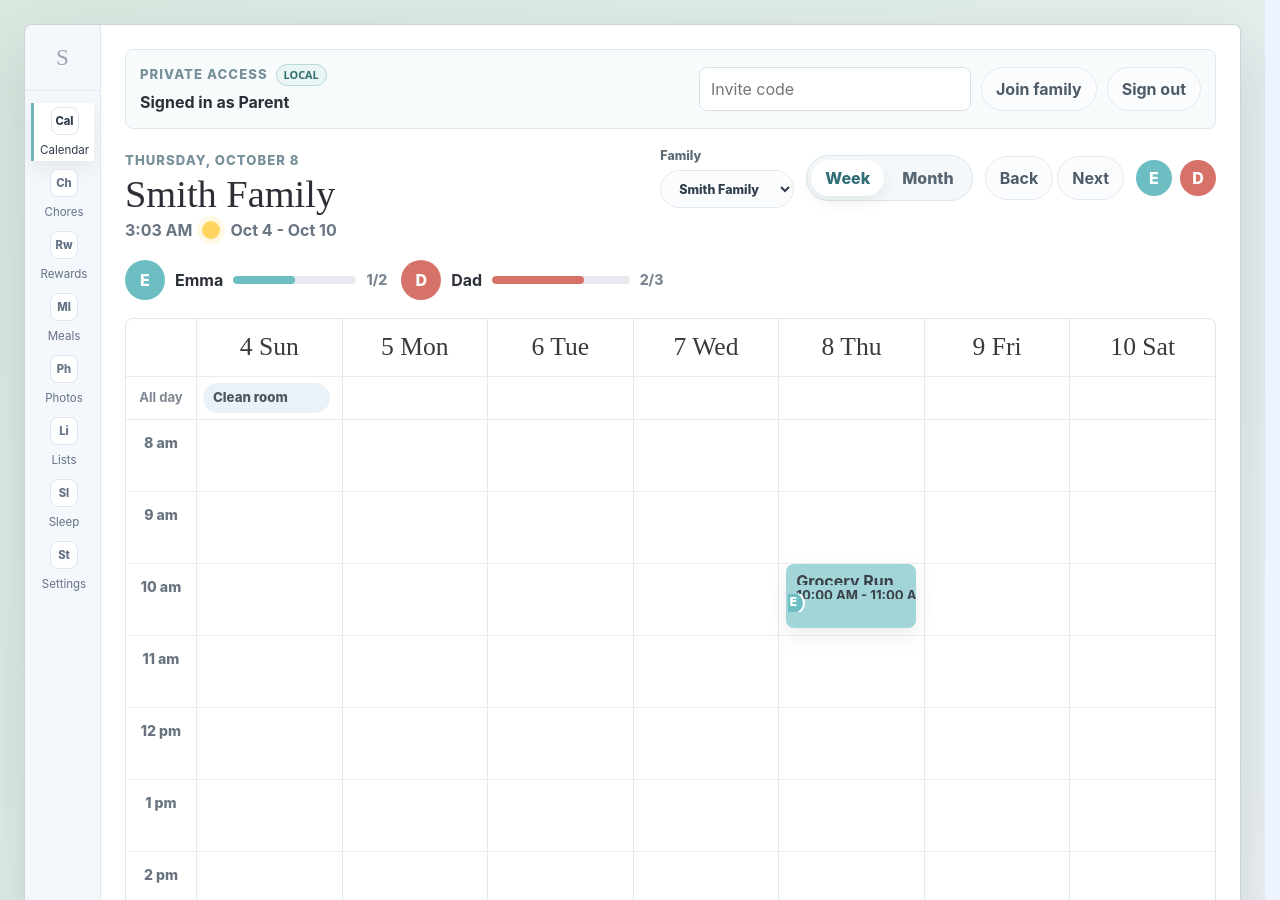
App › reloads and revokes active invitation codes for owners
This screenshot has width=1280, height=900.
Check: the heading "Smith Family" is shown, box x1=125 y1=175 x2=337 y2=214
What coordinates should you click on to do the following:
click the button "St Settings"
I would click on:
 (62, 566)
Its box is x1=31 y1=537 x2=94 y2=595.
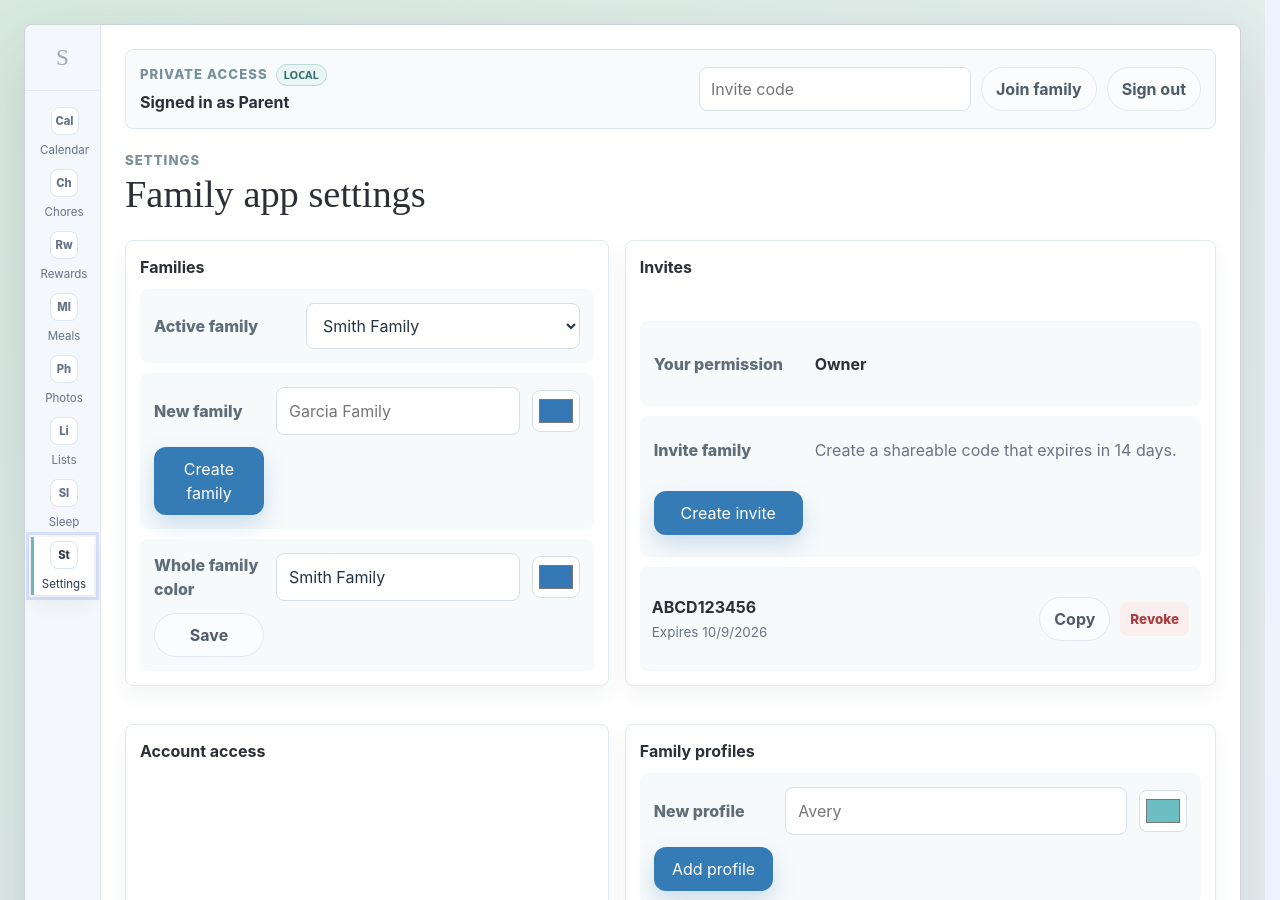
Check: the text "ABCD123456" is shown, box x1=652 y1=597 x2=756 y2=617
What coordinates should you click on to do the following:
click the button "Revoke"
I would click on:
 (1155, 619)
Its box is x1=1120 y1=602 x2=1189 y2=636.
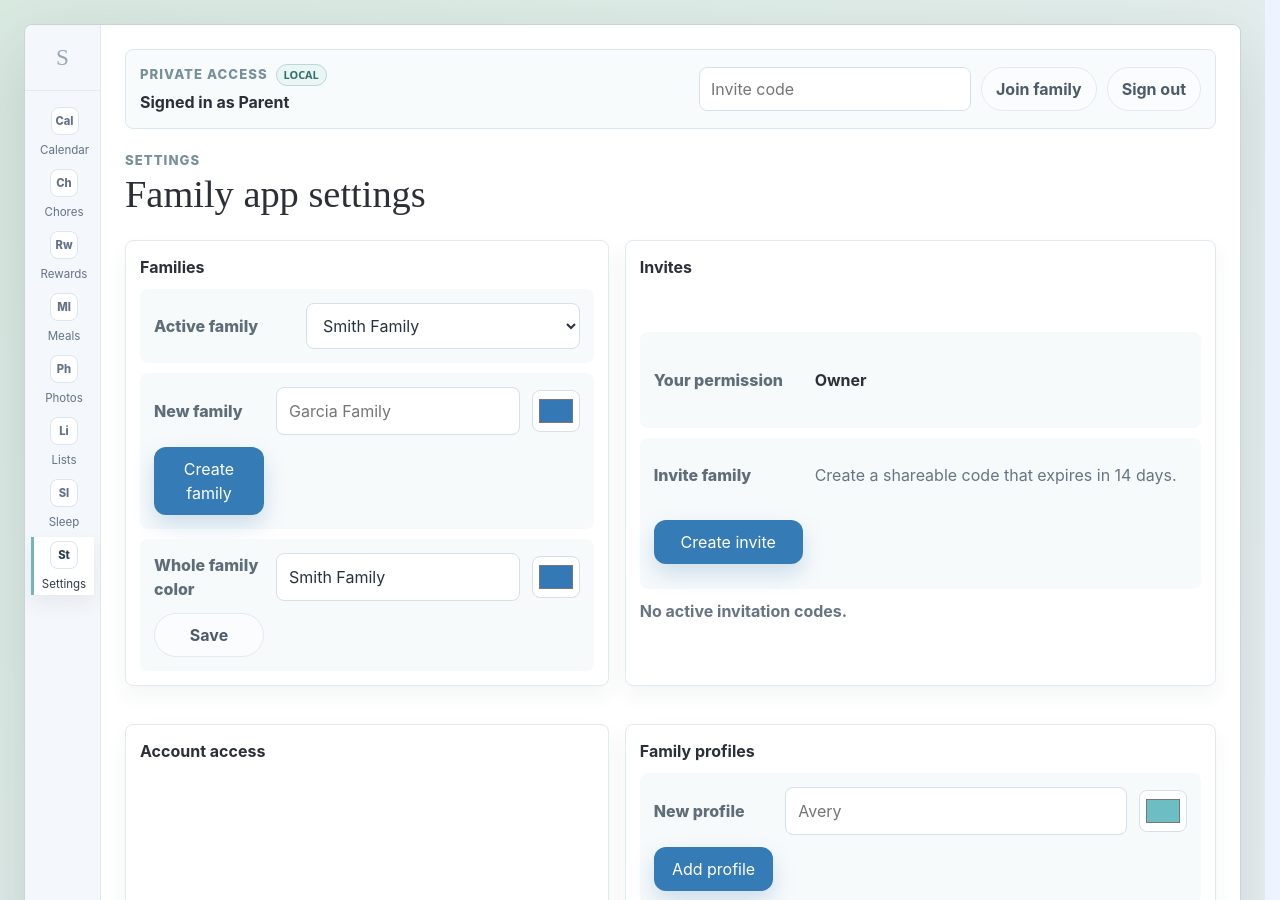
Check: the text "No active invitation codes." is shown, box x1=640 y1=601 x2=847 y2=621
